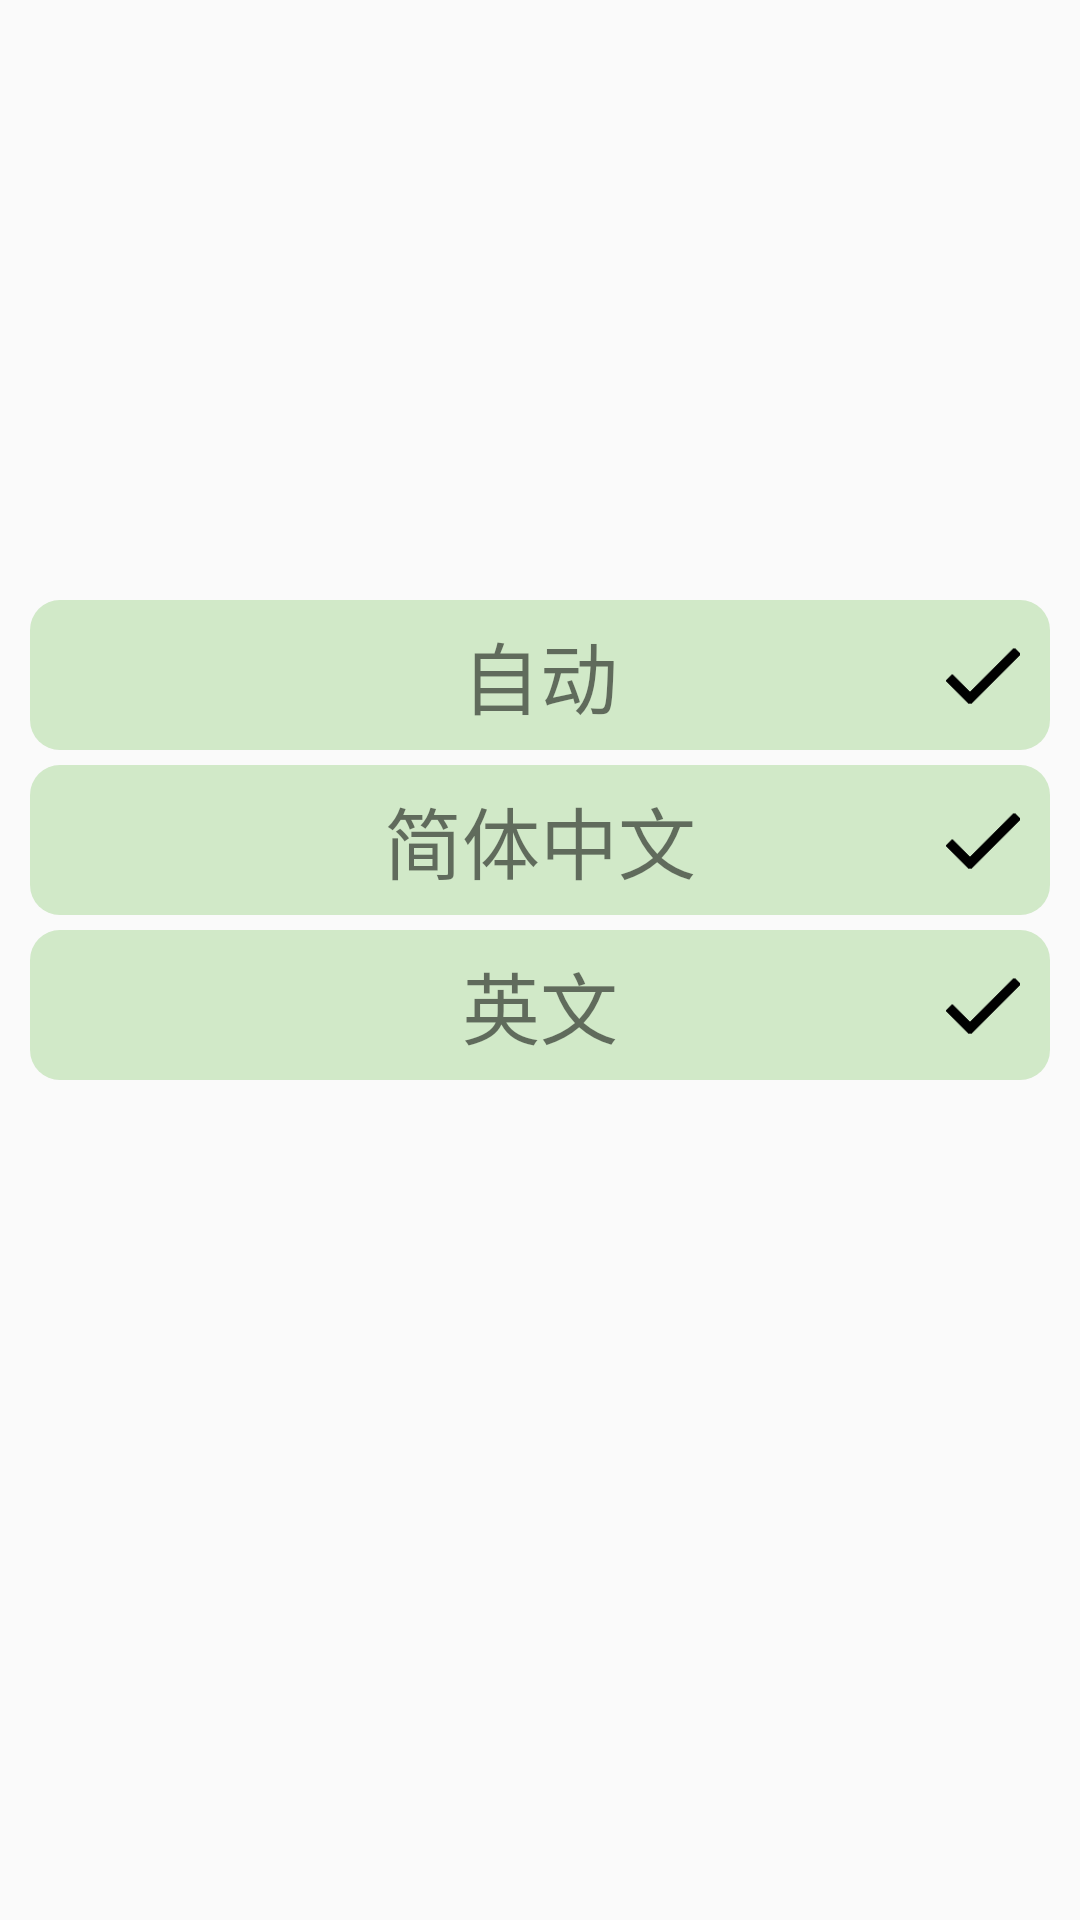

Screen size 1080w x 1920h. Icon name, then its center in pixels as (x=x, y=y):
choose: (x=983, y=676), (x=983, y=841), (x=983, y=1006)
